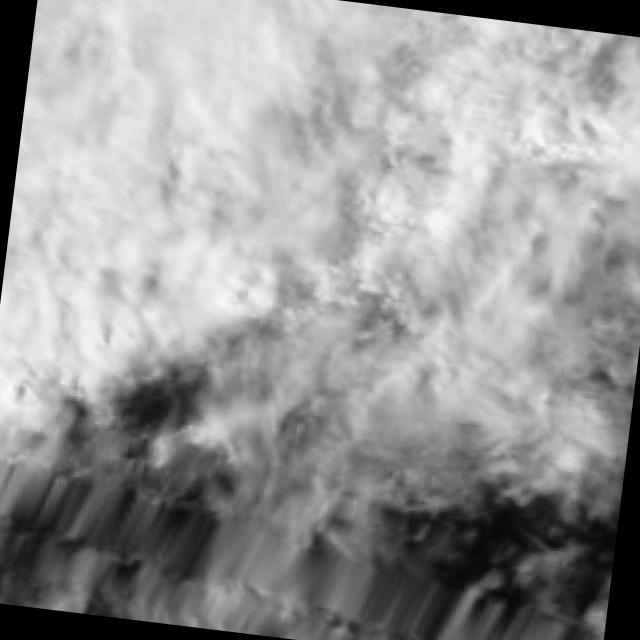CB: (15, 0, 228, 339)
